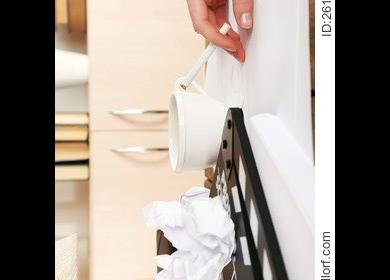Cigarette: (179, 20, 234, 90)
